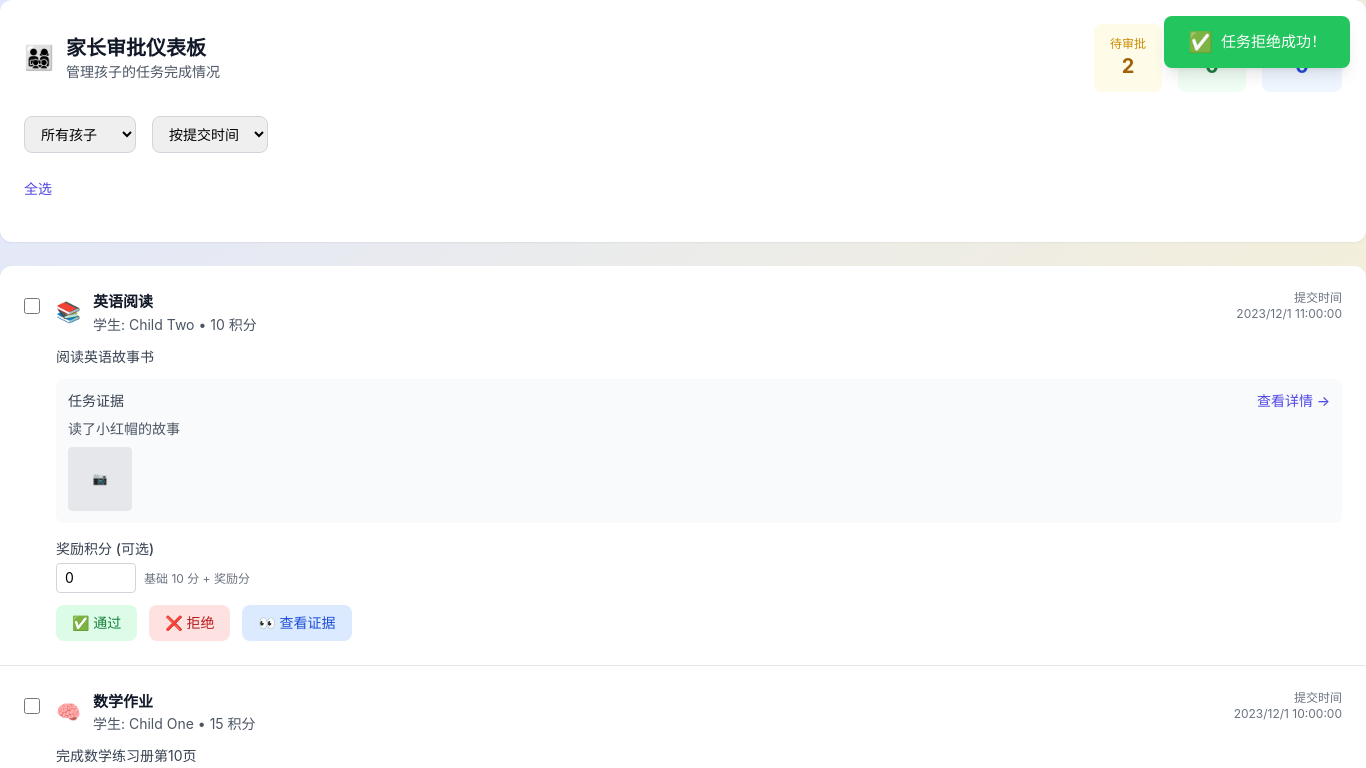
ParentApprovalDashboard › supports task selection for batch operations
Expected: the heading "数学作业" is shown, [93,692,153,710]
Click the checkbox next to "英语阅读" at (32, 306), box [24,298,40,314]
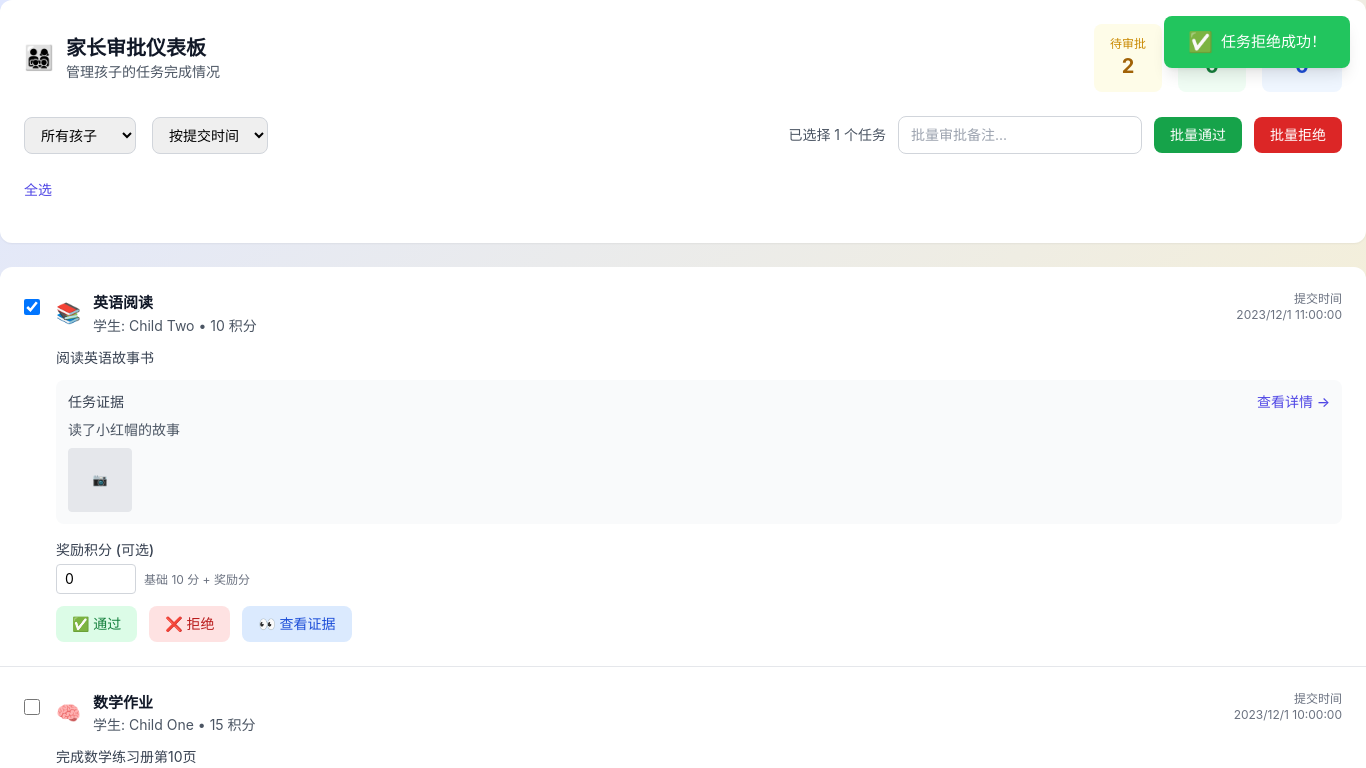
Now the text "已选择 1 个任务" is shown, box [788,125,886,145]
Now the button "批量通过" is shown, box [1154,117,1242,153]
Now the button "批量拒绝" is shown, box [1254,117,1342,153]
